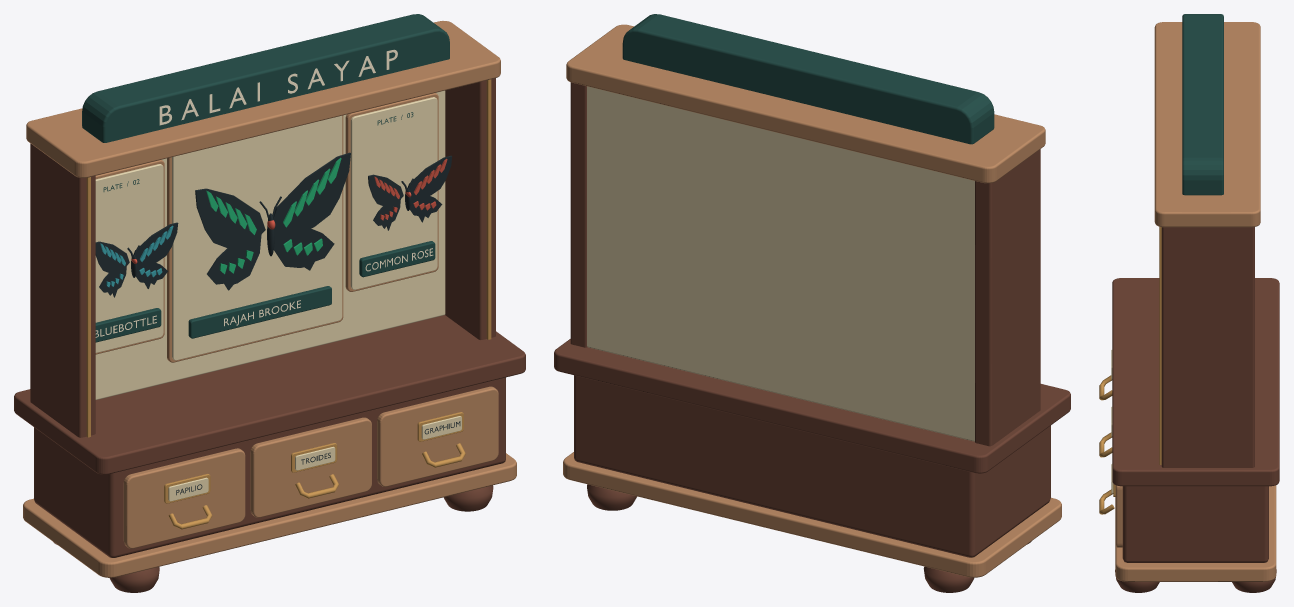
The picture shows the model from 3 angles, left to right: view 1: azimuth 30°, elevation 25°; view 2: azimuth 150°, elevation 25°; view 3: azimuth 270°, elevation 25°; orthographic projection. The views are drawn at different scales.
Parts seen in each view (by area): view 1: Balai Sayap | Taiping entomology cabinet - Cabinetry, Balai Sayap | Taiping entomology cabinet - Structure, Balai Sayap | Taiping entomology cabinet - Graphics, Balai Sayap | Taiping entomology cabinet - Drawers, Balai Sayap | Taiping entomology cabinet - Header, Balai Sayap | Taiping entomology cabinet - Pinned wings, Balai Sayap | Taiping entomology cabinet - Turned work; view 2: Balai Sayap | Taiping entomology cabinet - Structure, Balai Sayap | Taiping entomology cabinet - Cabinetry, Balai Sayap | Taiping entomology cabinet - Header, Balai Sayap | Taiping entomology cabinet - Turned work; view 3: Balai Sayap | Taiping entomology cabinet - Cabinetry, Balai Sayap | Taiping entomology cabinet - Structure, Balai Sayap | Taiping entomology cabinet - Header, Balai Sayap | Taiping entomology cabinet - Turned work, Balai Sayap | Taiping entomology cabinet - Drawers.
Boxes of the visible parts, <box> form: Balai Sayap | Taiping entomology cabinet - Cabinetry: <box>14,21,525,577</box>; Balai Sayap | Taiping entomology cabinet - Structure: <box>30,78,505,557</box>; Balai Sayap | Taiping entomology cabinet - Graphics: <box>95,49,463,503</box>; Balai Sayap | Taiping entomology cabinet - Drawers: <box>123,386,498,548</box>; Balai Sayap | Taiping entomology cabinet - Header: <box>82,14,449,142</box>; Balai Sayap | Taiping entomology cabinet - Pinned wings: <box>95,152,452,297</box>; Balai Sayap | Taiping entomology cabinet - Turned work: <box>53,485,493,592</box>; Balai Sayap | Taiping entomology cabinet - Structure: <box>570,82,1050,557</box>; Balai Sayap | Taiping entomology cabinet - Cabinetry: <box>554,24,1070,577</box>; Balai Sayap | Taiping entomology cabinet - Header: <box>622,14,994,144</box>; Balai Sayap | Taiping entomology cabinet - Turned work: <box>587,484,1031,592</box>; Balai Sayap | Taiping entomology cabinet - Cabinetry: <box>1112,22,1279,581</box>; Balai Sayap | Taiping entomology cabinet - Structure: <box>1099,226,1268,562</box>; Balai Sayap | Taiping entomology cabinet - Header: <box>1182,14,1223,195</box>; Balai Sayap | Taiping entomology cabinet - Turned work: <box>1115,569,1276,592</box>; Balai Sayap | Taiping entomology cabinet - Drawers: <box>1116,485,1122,547</box>.
Size of the model in its own units: 2.16 by 2.2 by 0.8504.
